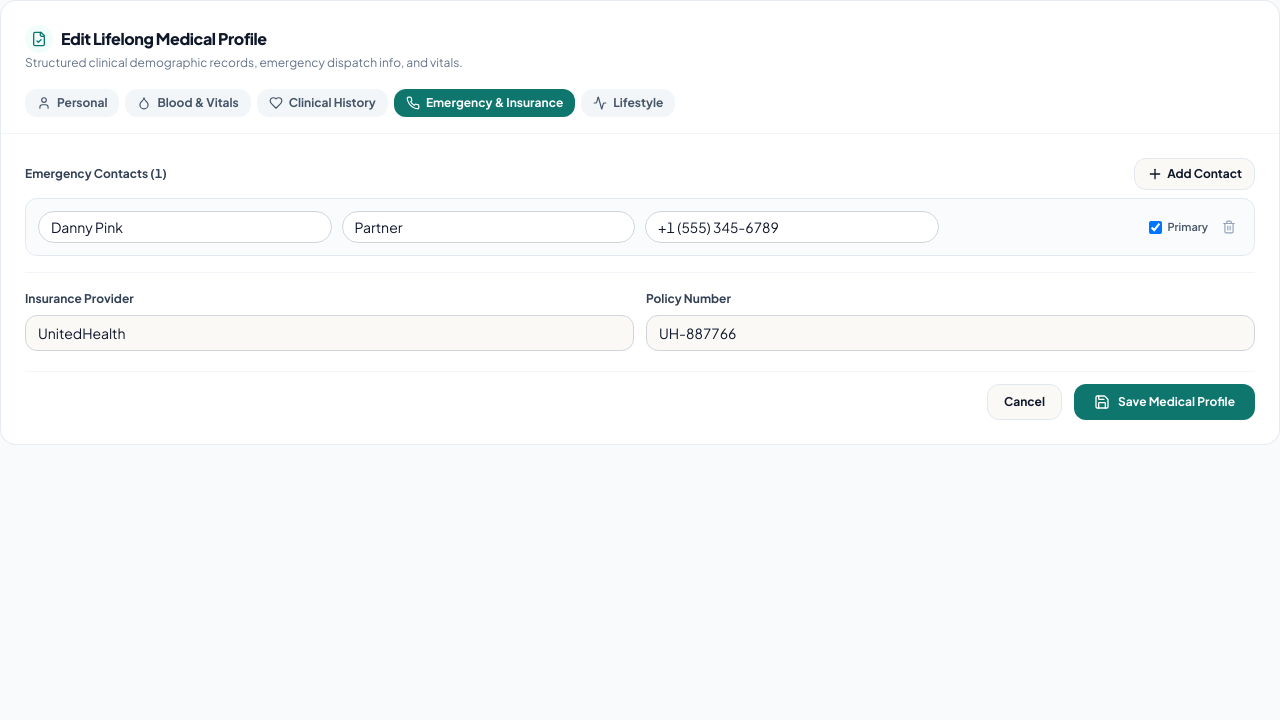
Test: Comprehensive Patient Profile UX/UI Refinement Suite › 3. Form Validation, Repeatable Contacts & Edit Workflow › supports repeatable emergency contacts: adding and updating contact in MedicalProfileForm
The width and height of the screenshot is (1280, 720).
Expected: the text "Emergency Contacts (1)" is shown, [25,166,167,182]
Click Add Contact
Step 1. Click the button "Add Contact" → (1195, 174), box [1134,158,1255,190]
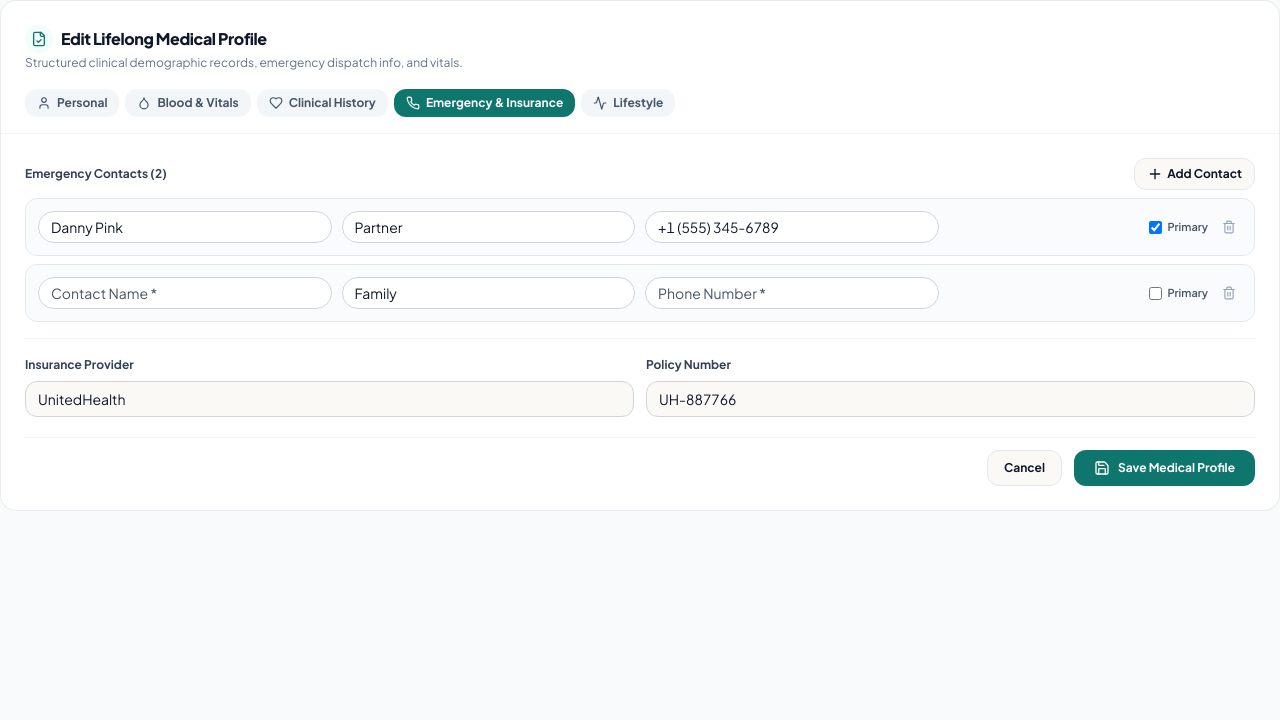
Result: the text "Emergency Contacts (2)" is shown at [25,166,167,182]
